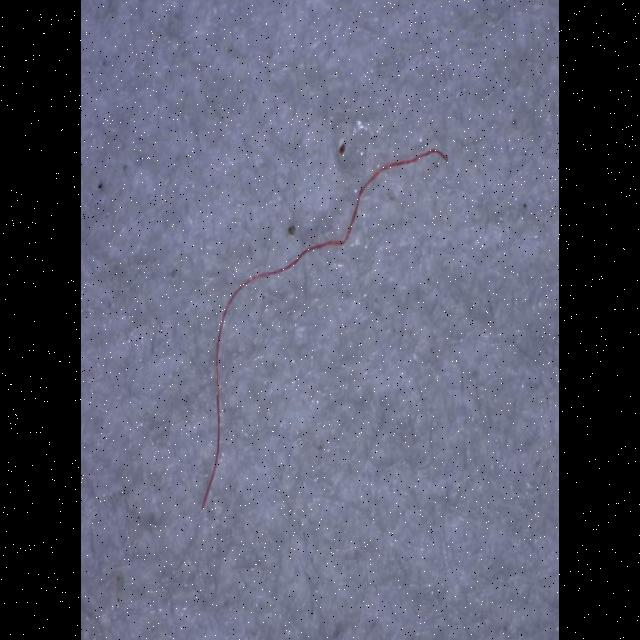Fibre: (202, 142, 450, 514)
